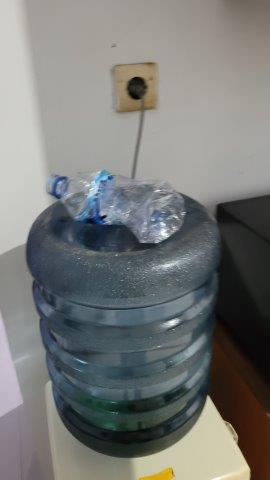botolplastik: (39, 170, 185, 246)
